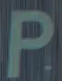Parking: (8, 1, 53, 75)
